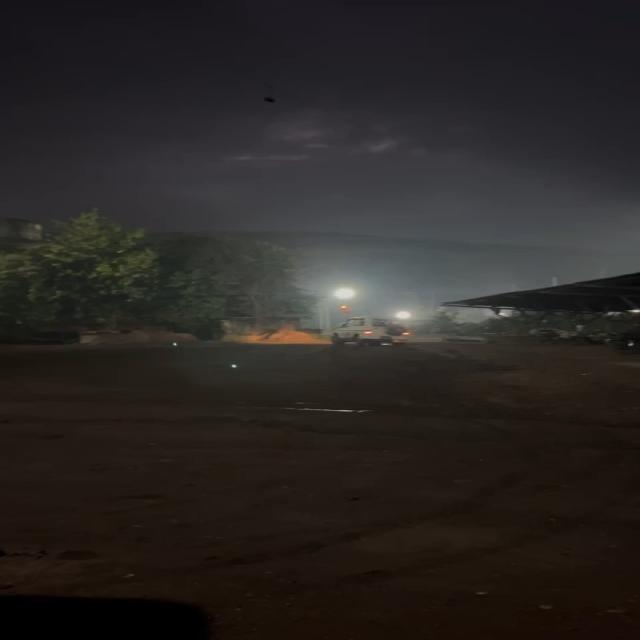light_vehicle: (324, 317, 412, 347)
